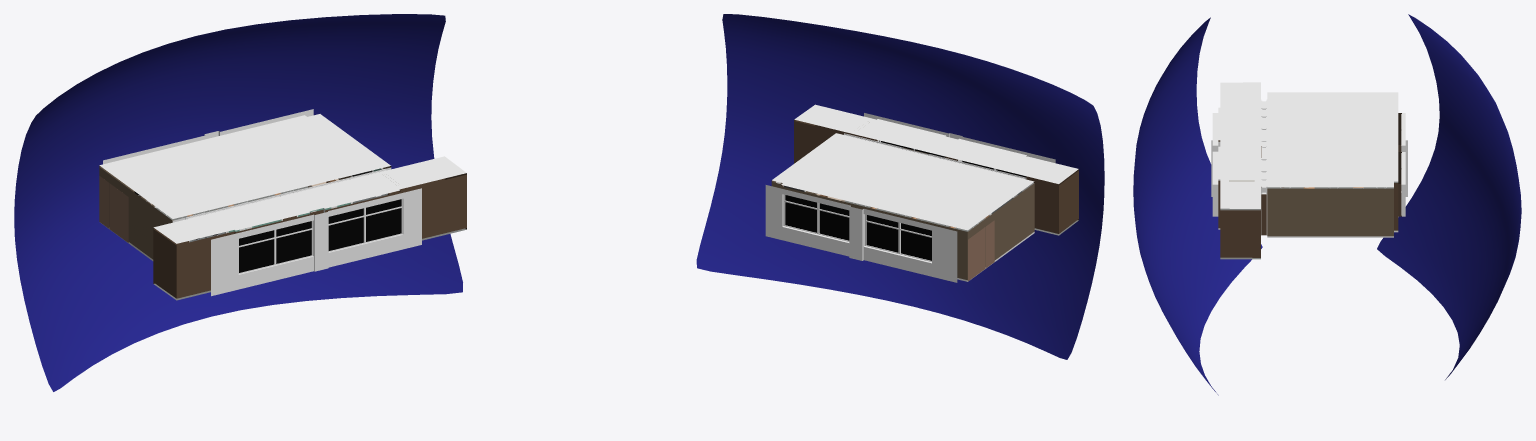
The model's file is prototipo_mapa_vista_sentarse.glb.
3 renders of one model, left to right at view 1: azimuth 30°, elevation 25°; view 2: azimuth 150°, elevation 25°; view 3: azimuth 270°, elevation 25°, orthographic. The views are drawn at different scales.
Visible parts, largest first — view 1: background, room, windows; view 2: background, room, windows; view 3: background, room.
Boxes of the visible parts, <box> form: background: <box>14,14,462,391</box>; room: <box>99,109,466,300</box>; windows: <box>134,191,401,272</box>; background: <box>696,14,1104,359</box>; room: <box>765,104,1078,282</box>; windows: <box>785,141,1026,260</box>; background: <box>1133,14,1521,395</box>; room: <box>1211,82,1407,259</box>.
Bounding box in the file's own units: 90.89 × 55.25 × 77.68.
